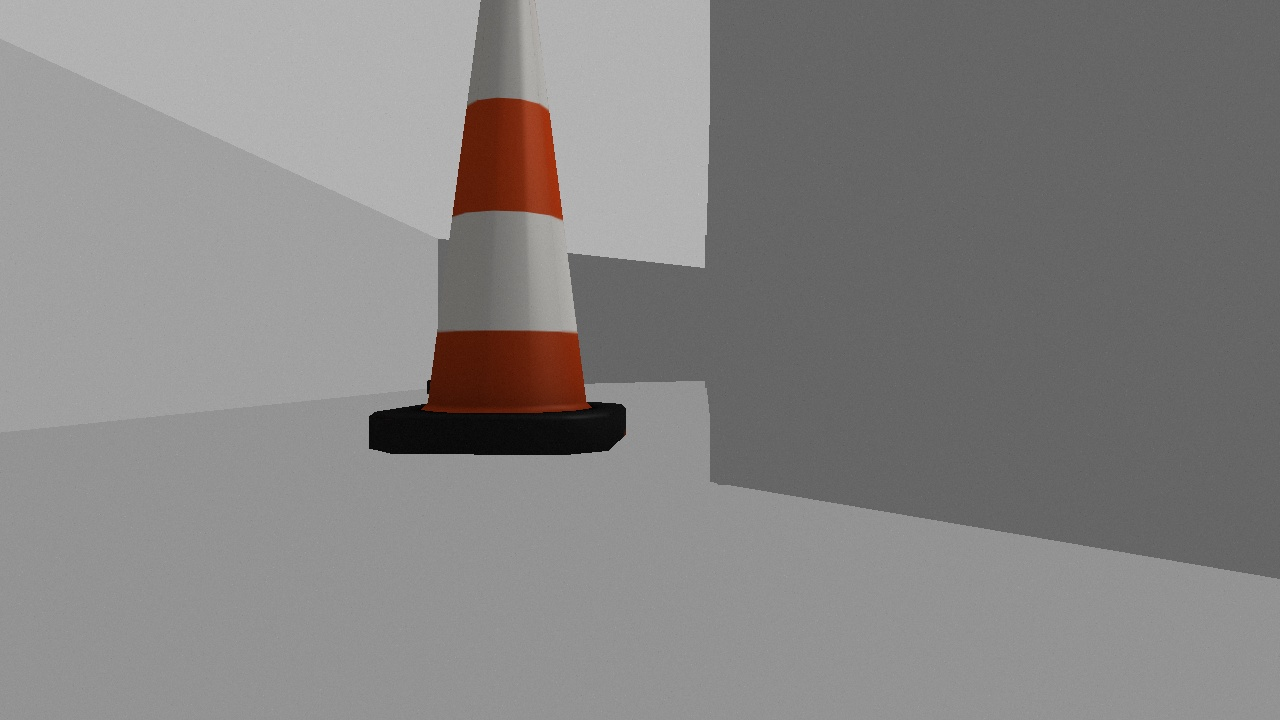barricade: (366, 1, 631, 458)
